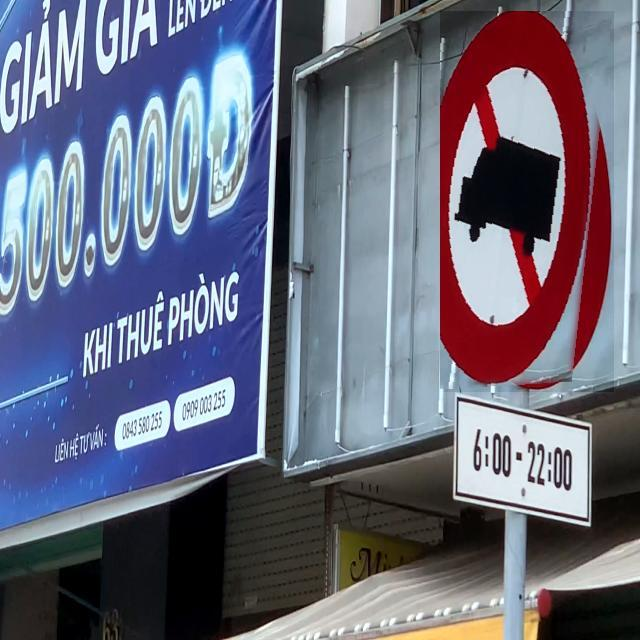P-106a: (440, 11, 614, 392)
